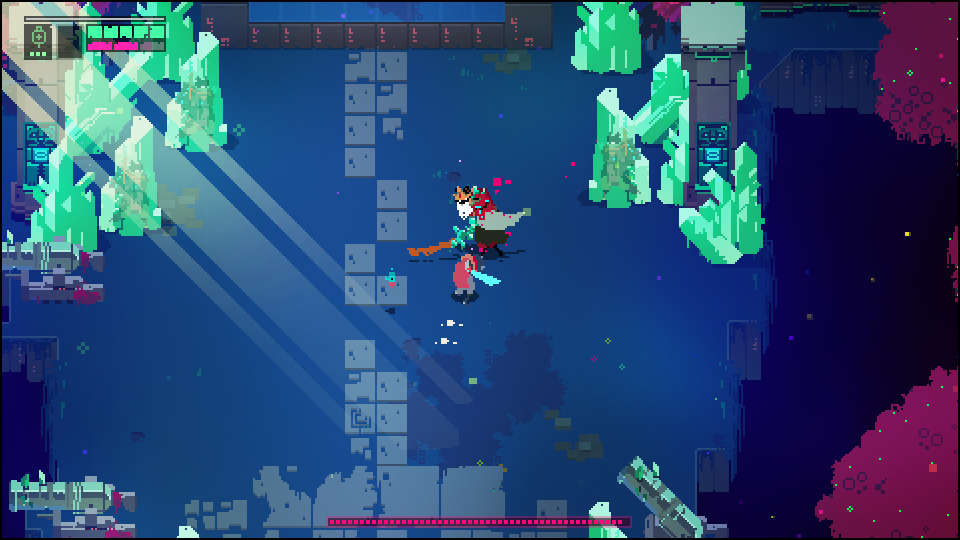hanged_man: (450, 183, 530, 258)
player: (449, 251, 502, 307)
